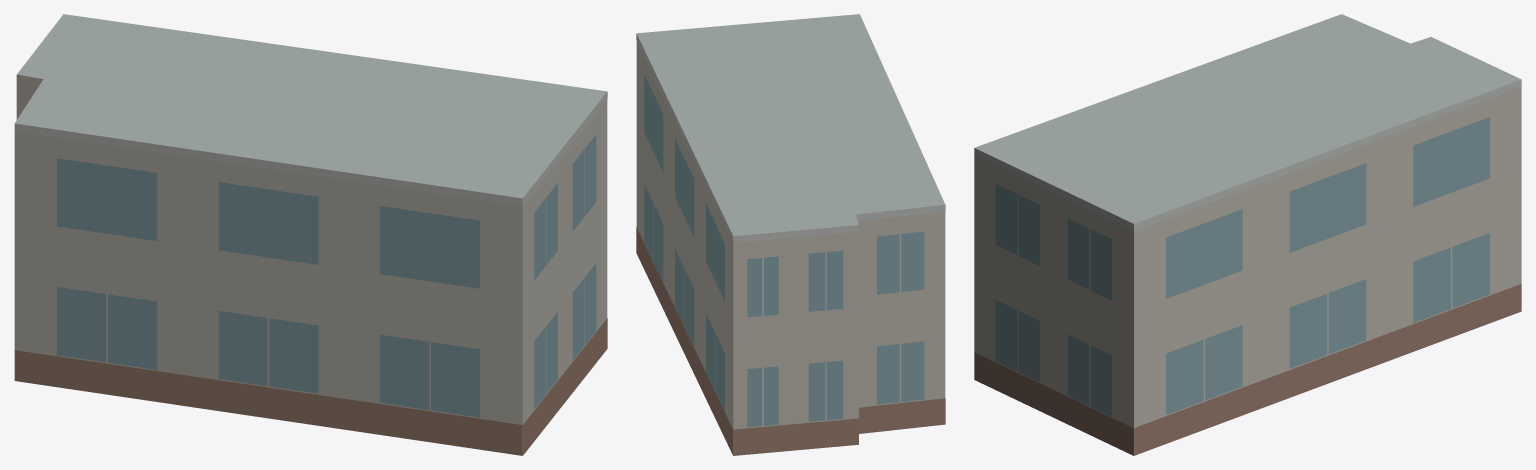
File: survey-upis-32834514.glb
3 renders of one model, left to right at view 1: azimuth 30°, elevation 25°; view 2: azimuth 150°, elevation 25°; view 3: azimuth 270°, elevation 25°, orthographic. The views are drawn at different scales.
Visible parts, largest first — view 1: survey-upis-32834514.tmp; view 2: survey-upis-32834514.tmp; view 3: survey-upis-32834514.tmp.
Boxes of the visible parts, left/top/right/bottom form: survey-upis-32834514.tmp: left=14, top=14, right=607, bottom=455; survey-upis-32834514.tmp: left=636, top=14, right=945, bottom=455; survey-upis-32834514.tmp: left=974, top=14, right=1521, bottom=455.
Size of the model in its own units: 15.34 by 7.9 by 16.9.
